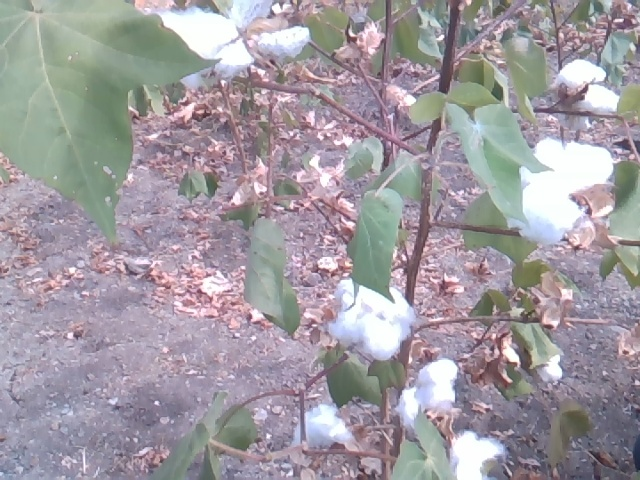cotton: (522, 137, 609, 244), (160, 10, 250, 85), (333, 281, 412, 359), (554, 60, 616, 127), (399, 364, 455, 425), (449, 431, 501, 480), (295, 407, 349, 447)
